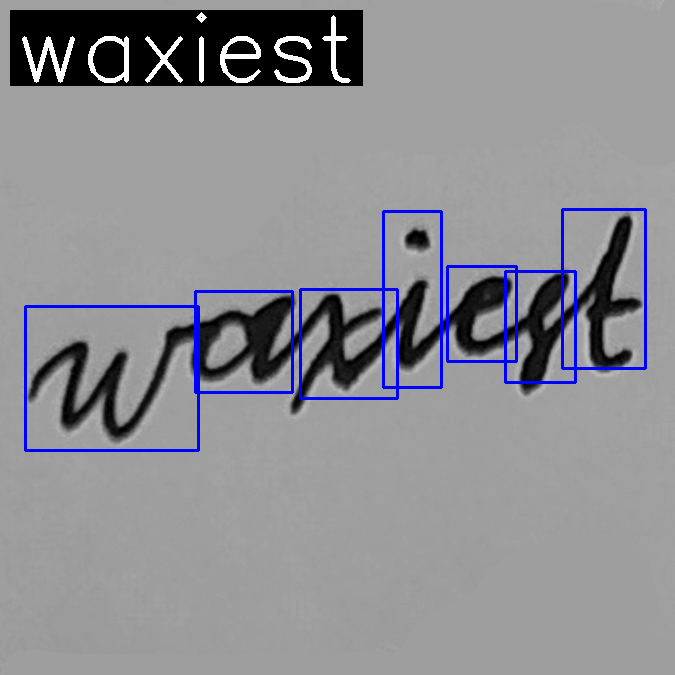a: (185, 292, 300, 385)
e: (446, 270, 522, 359)
i: (388, 224, 437, 379)
s: (513, 265, 575, 395)
t: (580, 208, 643, 376)
w: (51, 318, 182, 442)
x: (285, 287, 386, 418)
